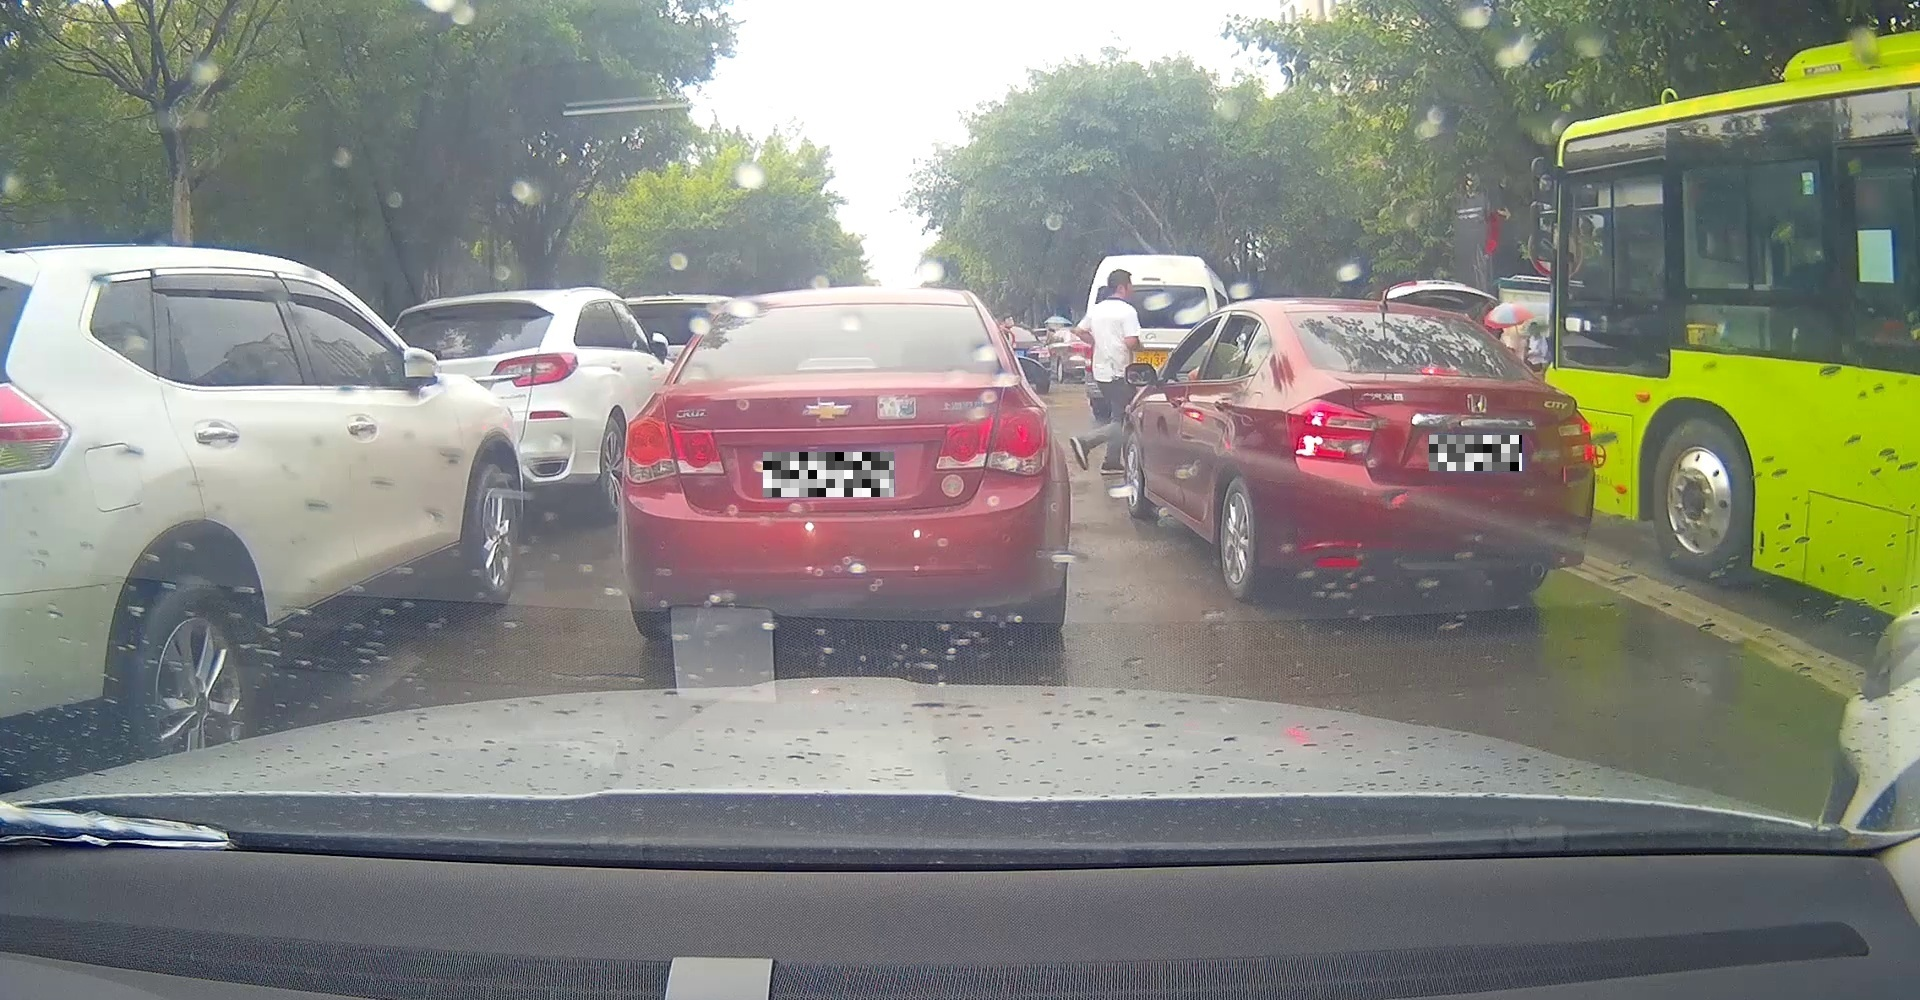L_light: (623, 418, 725, 485), (1286, 398, 1379, 462)
R_light: (937, 407, 1051, 475), (1526, 416, 1592, 466)
T_light: (797, 357, 876, 371), (1420, 367, 1459, 376)
day-brake: (1281, 297, 1596, 603)
day-no: (621, 286, 1070, 642)
plate_1: (763, 452, 894, 497)
plate_2: (1429, 435, 1523, 471)
